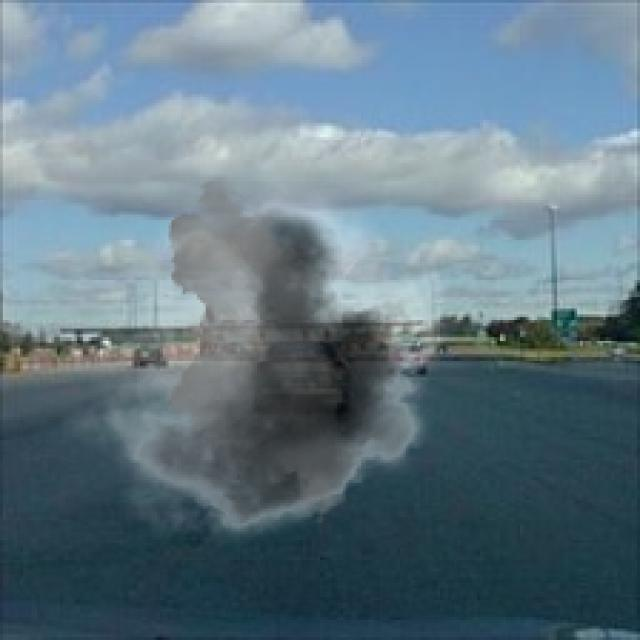Smoke: (60, 174, 466, 557)
